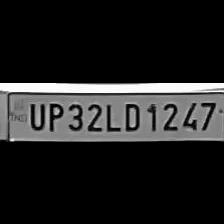1: (142, 99, 160, 131)
2: (158, 98, 178, 132), (84, 99, 104, 131)
3: (64, 99, 84, 131)
4: (178, 98, 198, 130)
7: (196, 97, 216, 130)
D: (119, 99, 143, 131)
L: (101, 100, 119, 132)
P: (44, 100, 64, 132)
U: (24, 99, 46, 130)
